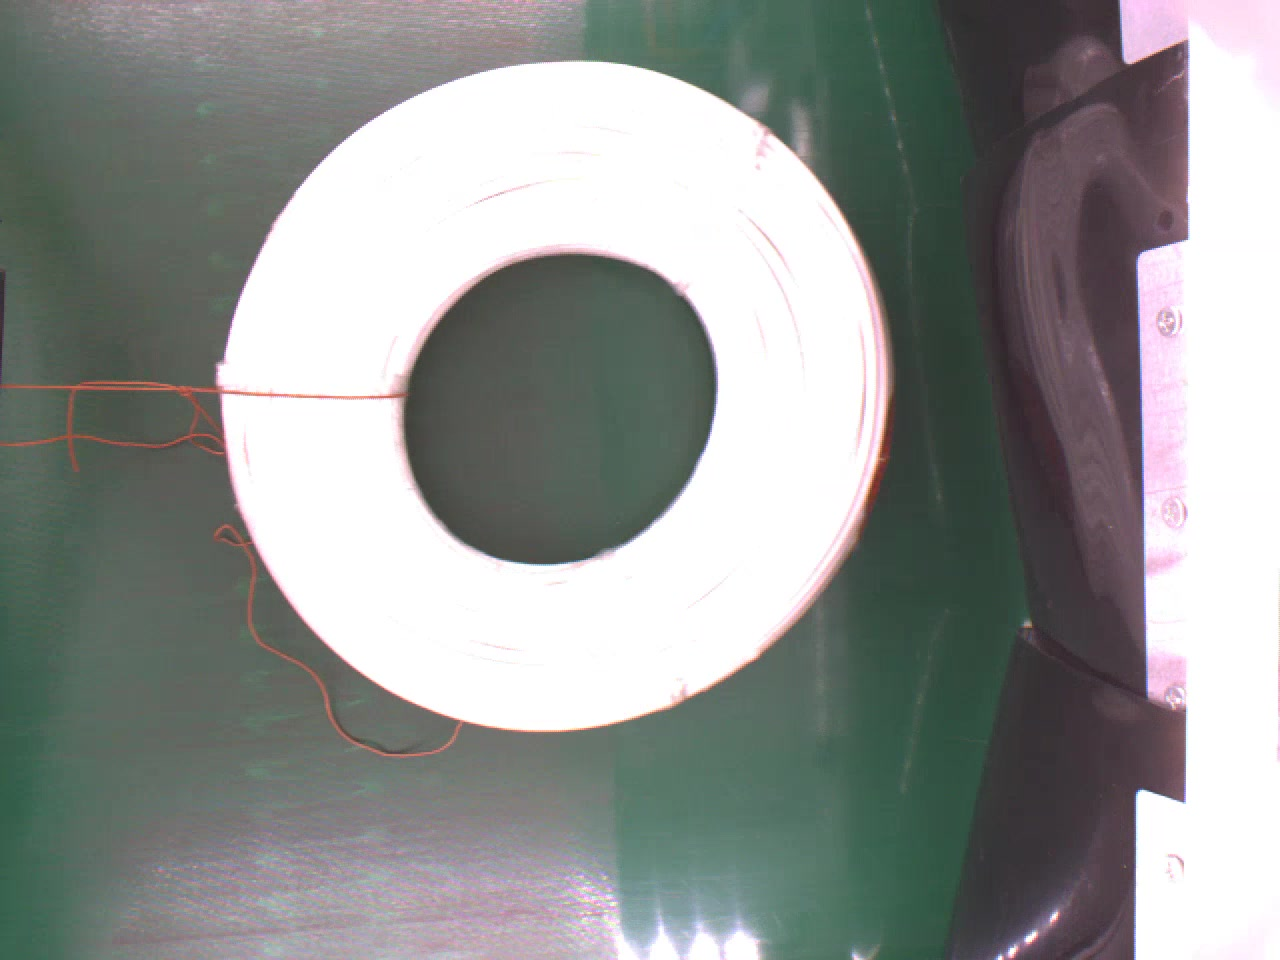white: (214, 59, 896, 723)
